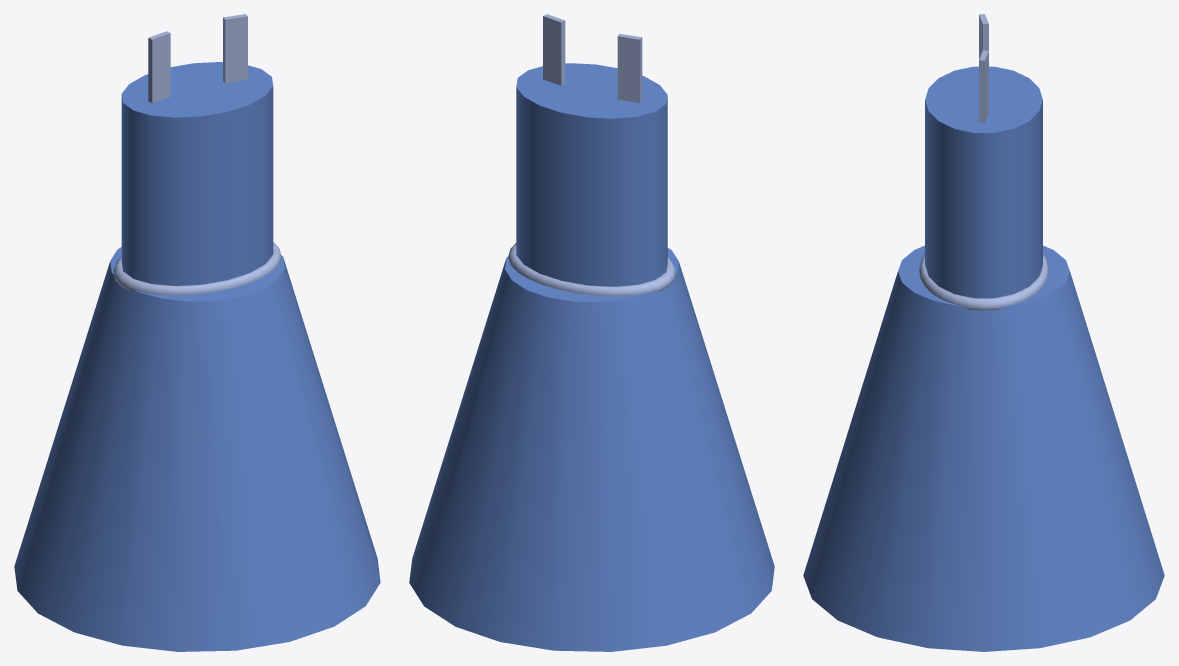
The model's file is VM-DAM-EXT162.glb.
The picture shows the model from 3 angles, left to right: view 1: azimuth 30°, elevation 25°; view 2: azimuth 150°, elevation 25°; view 3: azimuth 270°, elevation 25°; orthographic projection.
Visible parts, largest first — view 1: Vestido Azul; view 2: Vestido Azul; view 3: Vestido Azul.
Part boxes in pixels (left/top/right/bottom): Vestido Azul: left=14, top=14, right=380, bottom=651; Vestido Azul: left=409, top=14, right=774, bottom=651; Vestido Azul: left=803, top=14, right=1164, bottom=651.
Bounding box in the file's own units: 0.8316 × 1.37 × 0.8316.
